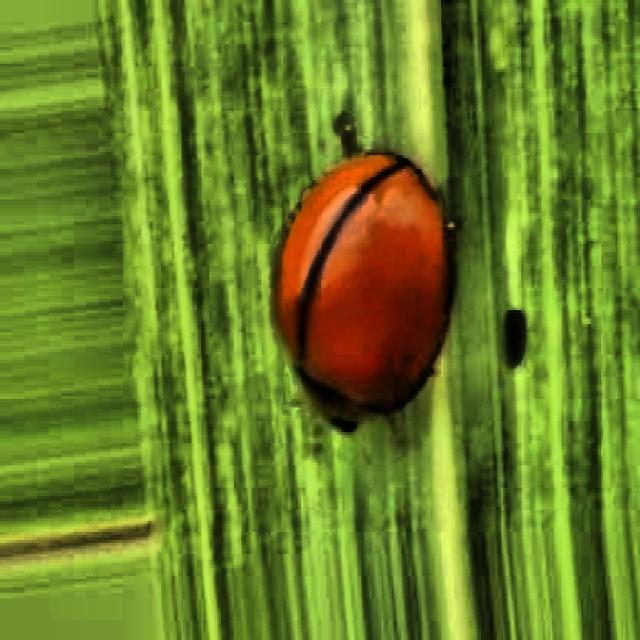Ladybug: (226, 61, 492, 498)
